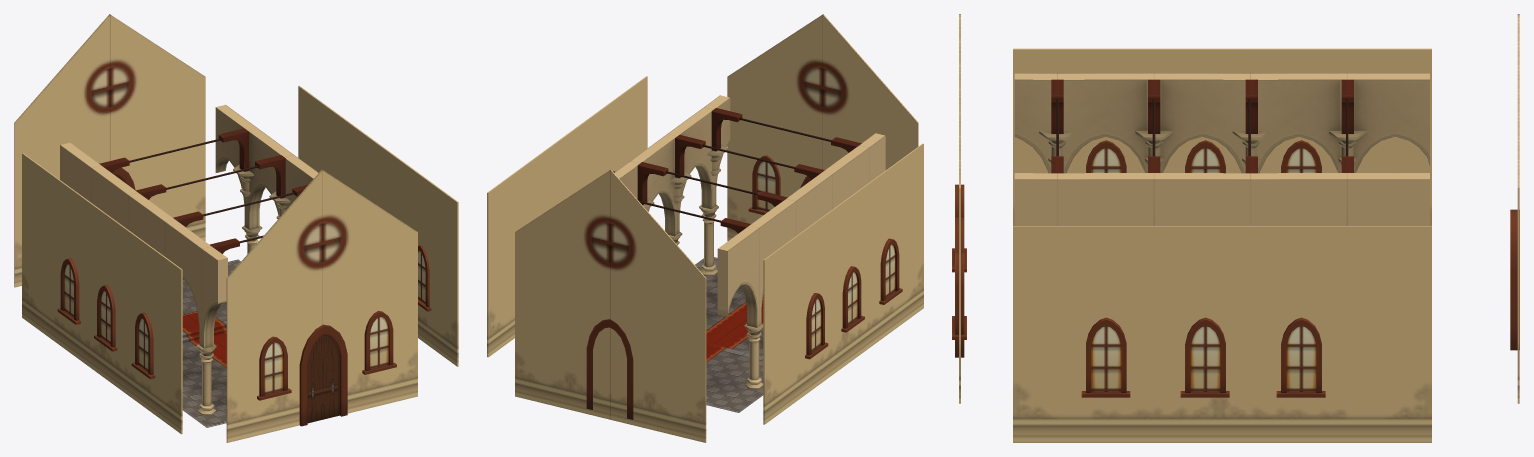
The model's file is Church.FBX.
3 views of the same model, side by side, from view 1: azimuth 30°, elevation 25°; view 2: azimuth 150°, elevation 25°; view 3: azimuth 270°, elevation 25° (orthographic). The views are drawn at different scales.
Parts seen in each view (by area): view 1: Church_Wall008, Church_Wall005, Church_Wall006, Church_Pillars001, Church_Wall007, Church_Floor001, Church_DoorFrame001, Church_Window002, Church_Window001, Door_011, Door_10a001; view 2: Church_Wall006, Church_Wall005, Church_Wall008, Church_Pillars001, Church_Wall007, Church_Floor001, Church_Window002; view 3: Church_Wall007, Church_Pillars001, Church_Wall005, Church_Wall006, Church_Window002, Church_Wall008.
Boxes of the visible parts, x1,y1,x2,y2 form: Church_Wall008: (226, 169, 417, 442); Church_Wall005: (22, 153, 182, 434); Church_Wall006: (14, 14, 205, 287); Church_Pillars001: (60, 104, 318, 414); Church_Wall007: (298, 85, 458, 366); Church_Floor001: (182, 259, 240, 427); Church_DoorFrame001: (299, 324, 347, 426); Church_Window002: (362, 311, 396, 374); Church_Window001: (257, 336, 291, 400); Door_011: (323, 334, 339, 419); Door_10a001: (307, 335, 322, 423); Church_Wall006: (515, 169, 706, 442); Church_Wall005: (763, 143, 923, 424); Church_Wall008: (727, 14, 918, 240); Church_Pillars001: (614, 95, 885, 388); Church_Wall007: (487, 76, 647, 357); Church_Floor001: (695, 257, 763, 412); Church_Window002: (748, 155, 780, 214); Church_Wall007: (1013, 226, 1431, 442); Church_Pillars001: (1014, 73, 1429, 225); Church_Wall005: (1013, 48, 1431, 225); Church_Wall006: (1510, 14, 1519, 403); Church_Window002: (952, 252, 966, 339); Church_Wall008: (959, 14, 960, 403).
Bounding box in the file's own units: 454 × 378 × 591.
